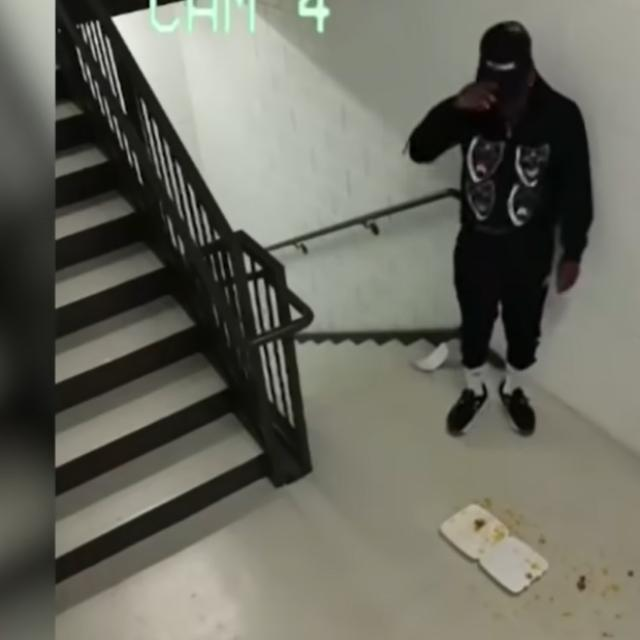person: (402, 12, 596, 444)
